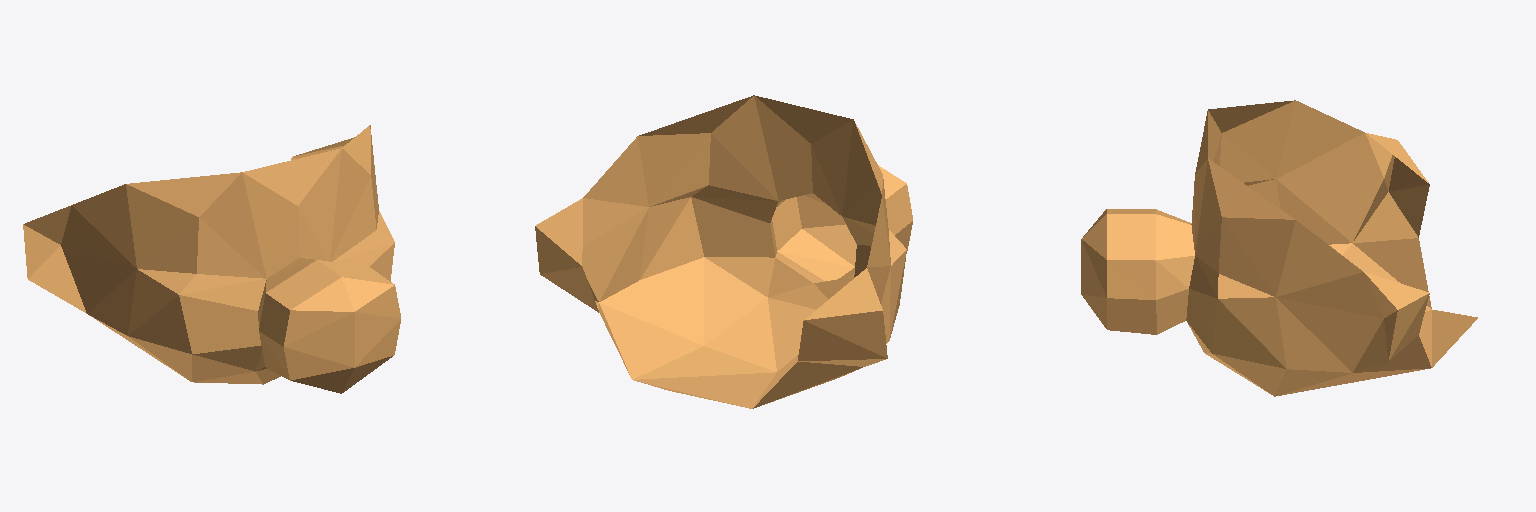
3 renders of one model, left to right at view 1: azimuth 30°, elevation 25°; view 2: azimuth 150°, elevation 25°; view 3: azimuth 270°, elevation 25°, orthographic.
Visible parts, largest first — view 1: Face, Eyes, Moustache, Hair_Piece; view 2: Face, Eyes, Moustache, Hair_Piece; view 3: Face, Hair_Piece, Eyes, Moustache.
Part boxes in pixels (bbox=[...]): Face: bbox=[23, 125, 400, 393]; Eyes: bbox=[127, 125, 376, 278]; Moustache: bbox=[128, 243, 394, 381]; Hair_Piece: bbox=[61, 184, 136, 335]; Face: bbox=[535, 133, 912, 408]; Eyes: bbox=[639, 95, 882, 225]; Moustache: bbox=[640, 197, 906, 345]; Hair_Piece: bbox=[582, 136, 890, 343]; Face: bbox=[1081, 100, 1477, 396]; Hair_Piece: bbox=[1276, 101, 1383, 372]; Eyes: bbox=[1191, 100, 1294, 273]; Moustache: bbox=[1186, 256, 1286, 396].
Size of the model in its own units: 108 by 72.22 by 106.